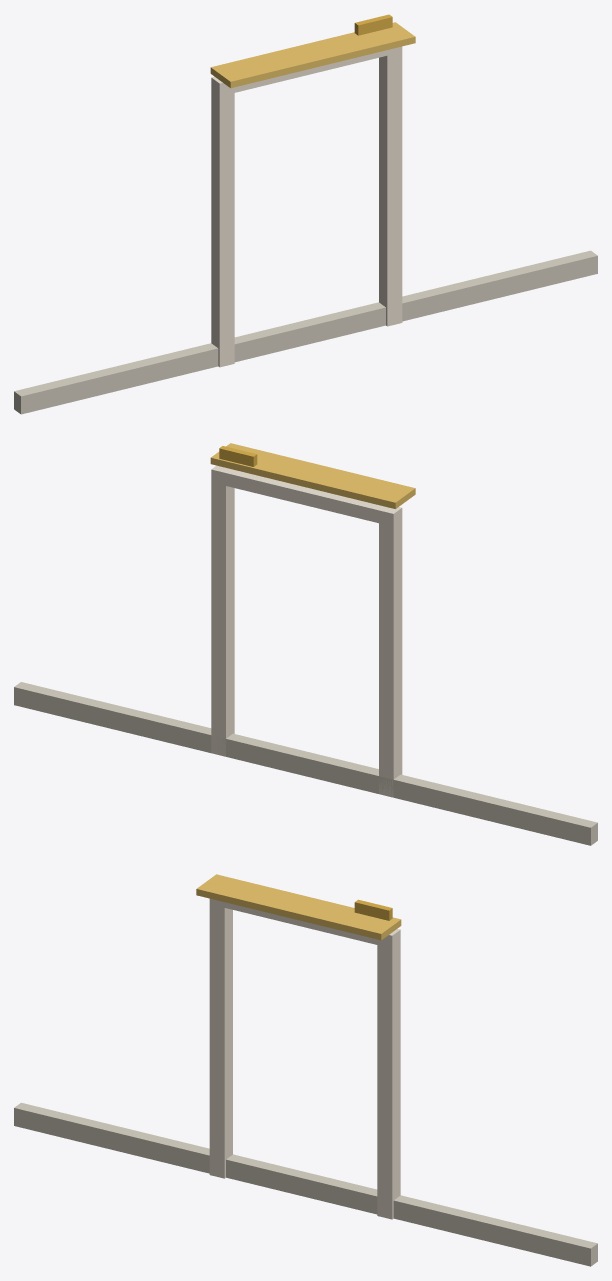
File: vivienda_estandar.gltf
The picture shows the model from 3 angles, top to bottom: view 1: azimuth 30°, elevation 25°; view 2: azimuth 150°, elevation 25°; view 3: azimuth 330°, elevation 25°; orthographic projection.
Parts seen in each view (by area): view 1: rodapie, jamba_izq, jamba_der, toldito, dintel, placa; view 2: rodapie, jamba_izq, jamba_der, toldito, dintel, placa; view 3: rodapie, jamba_der, jamba_izq, toldito, dintel, placa.
Part boxes in pixels (<box>): rodapie: <box>14,250,597,414</box>; jamba_izq: <box>211,90,234,367</box>; jamba_der: <box>379,52,402,326</box>; toldito: <box>210,22,415,88</box>; dintel: <box>211,46,402,96</box>; placa: <box>354,14,392,35</box>; rodapie: <box>14,682,597,845</box>; jamba_izq: <box>379,521,402,797</box>; jamba_der: <box>211,482,234,756</box>; toldito: <box>210,443,415,508</box>; dintel: <box>211,465,402,526</box>; placa: <box>219,446,257,466</box>; rodapie: <box>14,1102,597,1266</box>; jamba_der: <box>377,943,400,1219</box>; jamba_izq: <box>209,904,232,1178</box>; toldito: <box>196,874,401,940</box>; dintel: <box>209,898,400,948</box>; placa: <box>354,899,392,920</box>.
Bounding box in the file's own units: 4.68 × 2.36 × 0.29.
